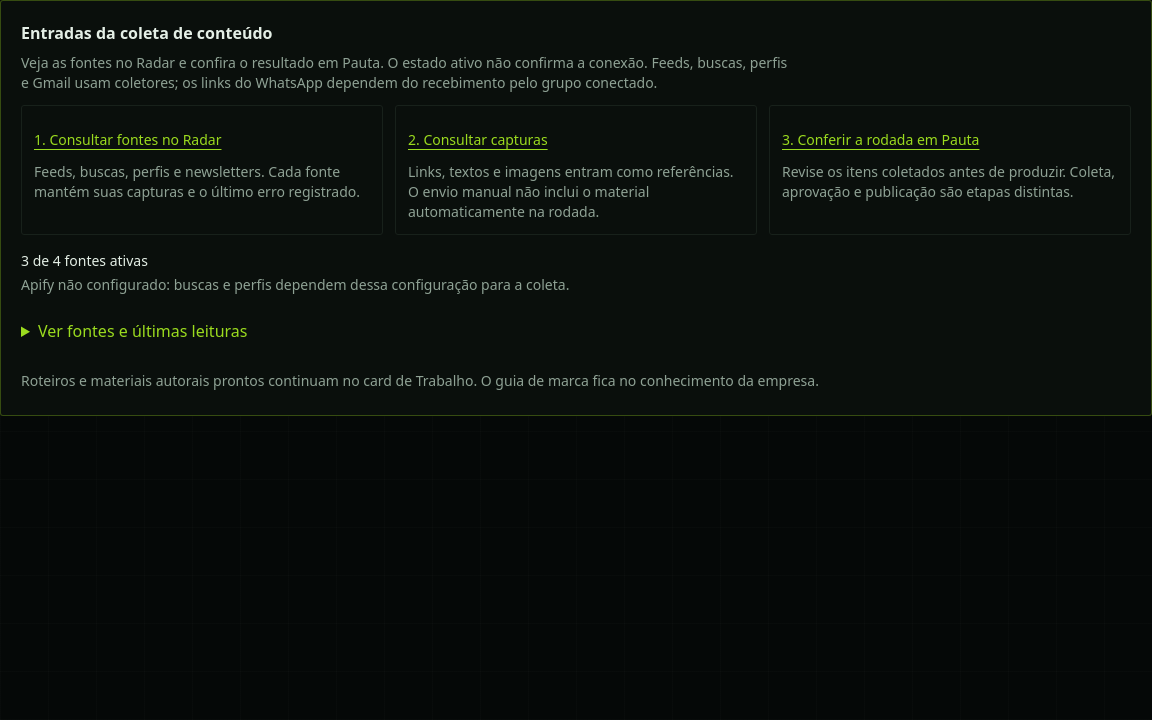
entradas da coleta › distingue pausa, primeira leitura, erro e leitura sem erro registrado
Click the heading "Ver fontes e últimas leituras" at (143, 331), box [38,320,247,342]
(page scrolled)
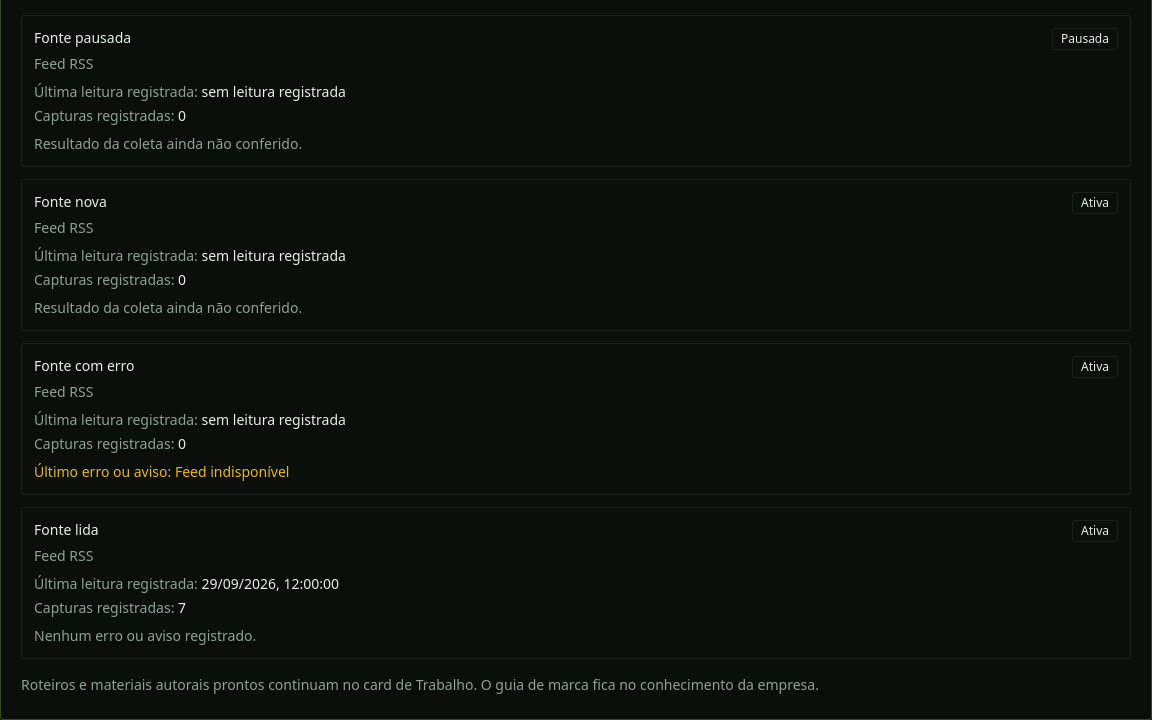
Expected: the text "Pausada" is shown, [1052,28,1118,50]
Expected: the text "sem leitura registrada" is shown 3 times, [202,82,346,101]; [202,246,346,265]; [202,410,346,429]
Expected: the text "Último erro ou aviso: Feed indisponível" is shown, [34,462,289,481]
